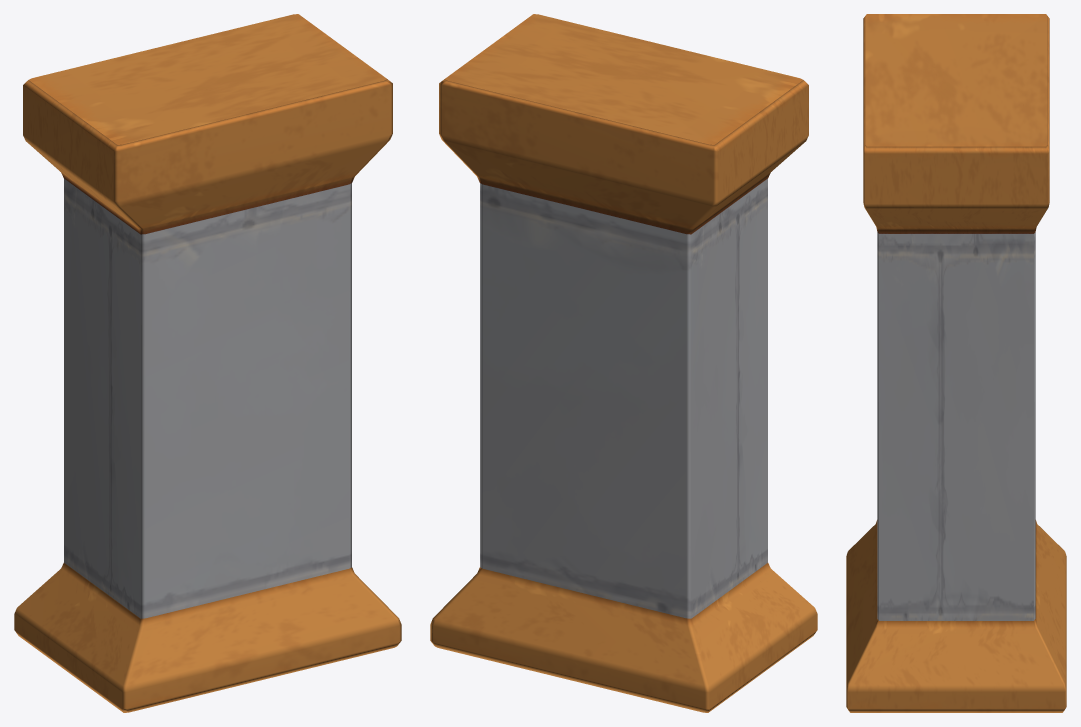
File: SM_WallLowInter.fbx
3 views of the same model, side by side, from view 1: azimuth 30°, elevation 25°; view 2: azimuth 150°, elevation 25°; view 3: azimuth 270°, elevation 25° (orthographic).
Parts seen in each view (by area): view 1: SM_WallLowInter; view 2: SM_WallLowInter; view 3: SM_WallLowInter.
Boxes of the visible parts, left/top/right/bottom form: SM_WallLowInter: left=14, top=14, right=401, bottom=712; SM_WallLowInter: left=430, top=14, right=817, bottom=712; SM_WallLowInter: left=846, top=14, right=1066, bottom=712.
Bounding box in the file's own units: 0.929 × 1.78 × 0.6309.
